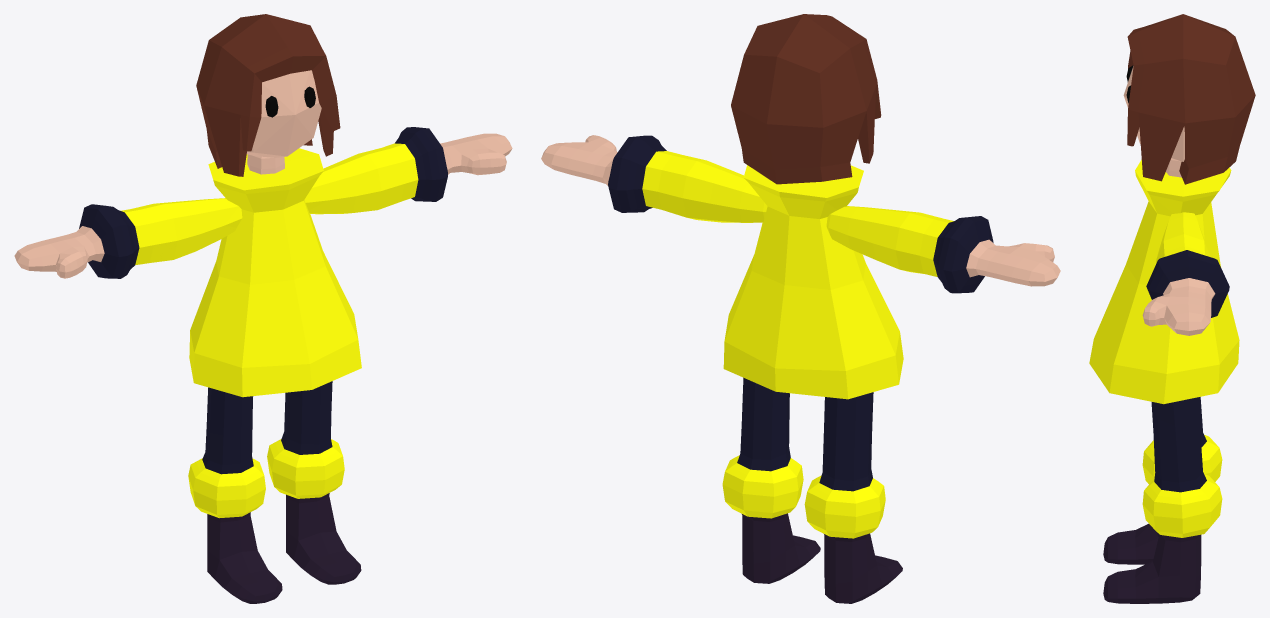
The model's file is FBX角色文件_角色_低多边形风格.glb.
The picture shows the model from 3 angles, left to right: view 1: azimuth 30°, elevation 25°; view 2: azimuth 150°, elevation 25°; view 3: azimuth 270°, elevation 25°; orthographic projection. The views are drawn at different scales.
Parts seen in each view (by area): view 1: LowPolyCharacter; view 2: LowPolyCharacter; view 3: LowPolyCharacter.
Part boxes in pixels (bbox=[...]): LowPolyCharacter: bbox=[14, 14, 512, 603]; LowPolyCharacter: bbox=[541, 14, 1060, 603]; LowPolyCharacter: bbox=[1089, 14, 1255, 603].
Bounding box in the file's own units: 1.97 × 2.1 × 0.5642.
6 materials, 1 textured.
